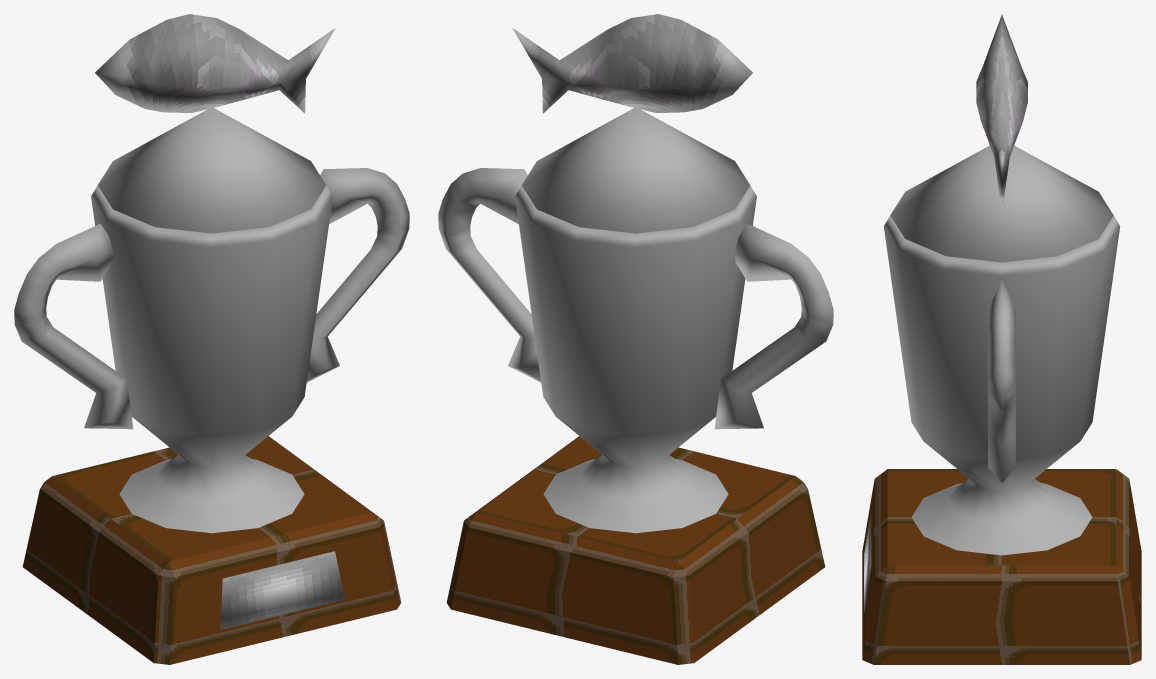
The model's file is int_oth_trophy_fB.dae.
The picture shows the model from 3 angles, left to right: view 1: azimuth 30°, elevation 25°; view 2: azimuth 150°, elevation 25°; view 3: azimuth 270°, elevation 25°; orthographic projection. The views are drawn at different scales.
Parts seen in each view (by area): view 1: int_oth_trophy_fB; view 2: int_oth_trophy_fB; view 3: int_oth_trophy_fB.
Boxes of the visible parts, box(x1,y1,x2,y2) form: int_oth_trophy_fB: box(14, 14, 409, 664); int_oth_trophy_fB: box(438, 14, 833, 664); int_oth_trophy_fB: box(862, 14, 1141, 664).
Bounding box in the file's own units: 25.56 × 35.6 × 16.
Materials: 2 (2 with a texture image).
